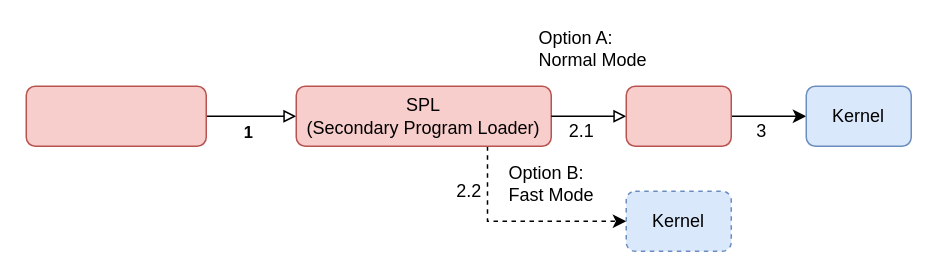
Some shapes in this 938 by 278 pixel diagram are drawn without their labels. The centre of each missing label's shape, as x and y in pixels:
BootROM (SoC Bootloader): [115,115]
U-Boot: [678,115]
